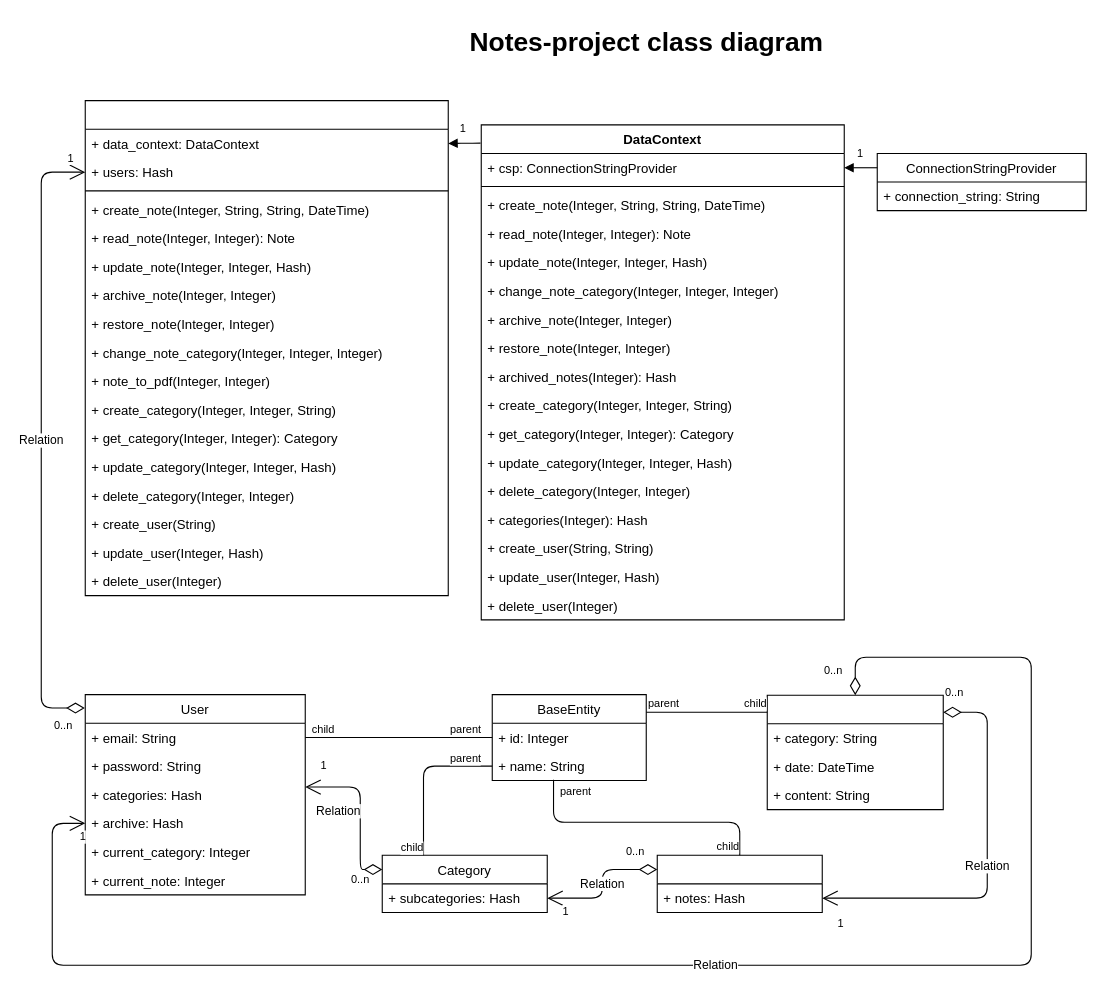
The diagram is 1106 pixels wide and 1003 high, and some of its shapes have lost their labels. The shapes that lost their labels are listed below. From the top down, each one's box as (x1, y1, x2, y2) in pixels, then its label:
(84, 100, 448, 596): NotesRepository
(766, 694, 943, 810): Note
(656, 854, 822, 912): Subcategory
